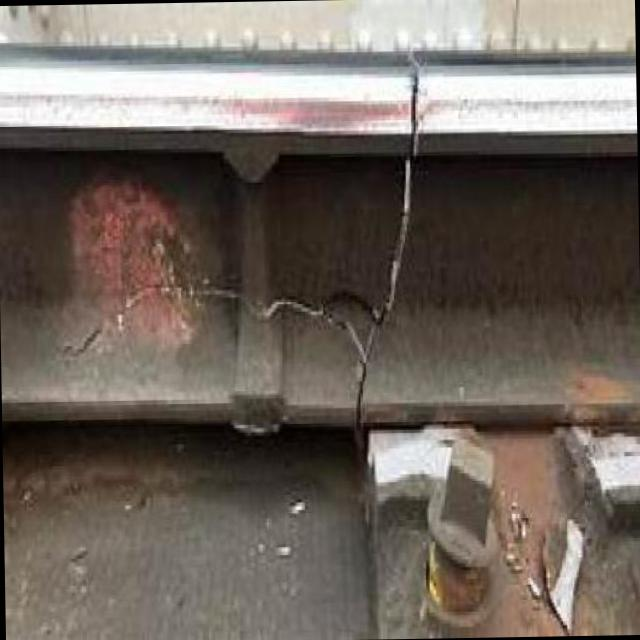defective: (33, 24, 637, 519)
